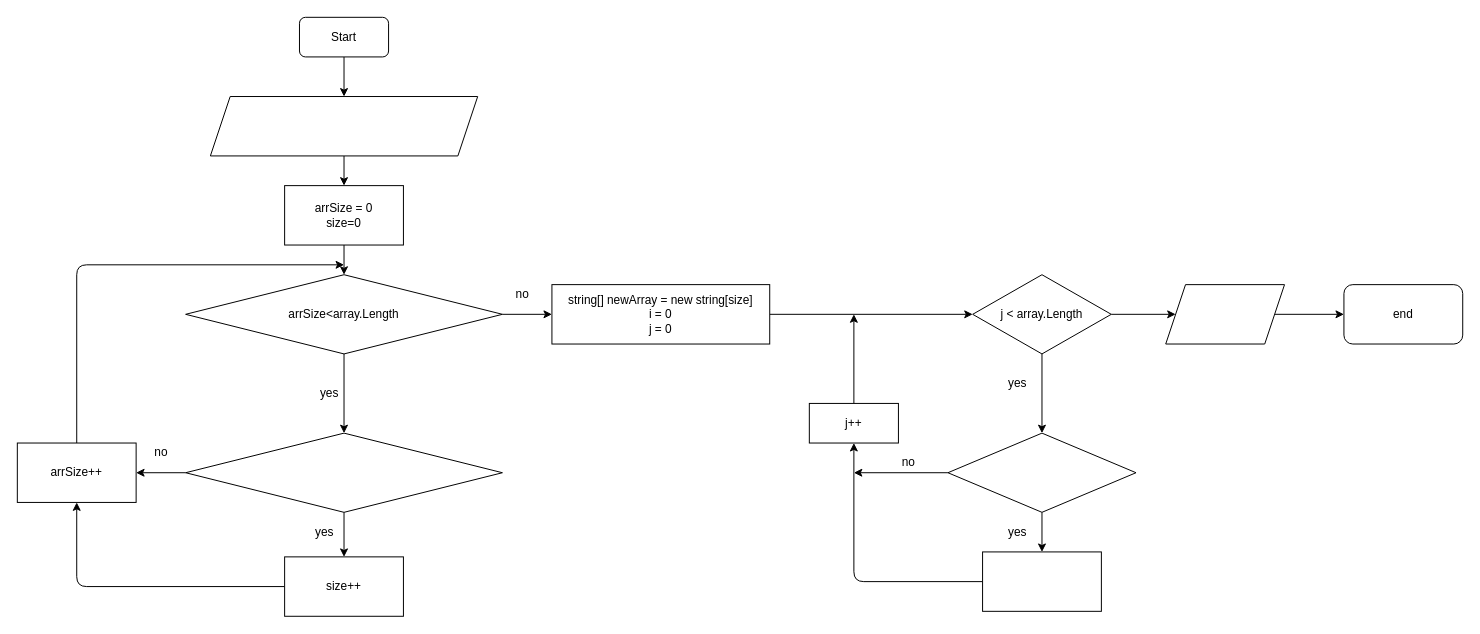
Some shapes in this 1480 by 634 pixel diagram are drawn without their labels. The shapes that lost their labels are listed below. From the top down, each one's box as (x1, y1, x2, y2) in pixels, then its label:
(209, 96, 478, 156): string [] array = {"1234", "125", "963", "45"}
(1165, 284, 1285, 344): newArray
(185, 432, 502, 512): array[arrSize].Length<=3
(947, 432, 1136, 512): array[j].Length <= 3
(982, 551, 1101, 611): newArray[i] = array[j] i++
